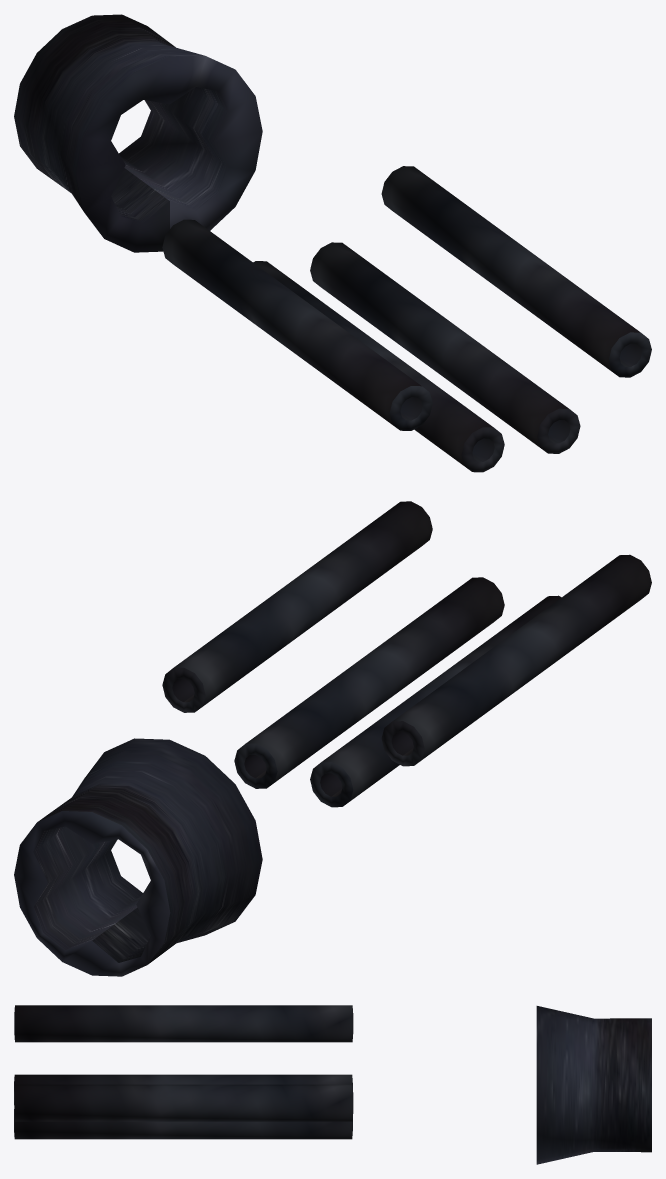
The model's file is ilacli_buat_bant.fbx.
The picture shows the model from 3 angles, top to bottom: view 1: azimuth 30°, elevation 25°; view 2: azimuth 150°, elevation 25°; view 3: azimuth 270°, elevation 25°; orthographic projection. The views are drawn at different scales.
Visible parts, largest first — view 1: cable2_buyuk_bant, ilacli_buat_bant.003, ilacli_buat_bant.004, ilacli_buat_bant.001, ilacli_buat_bant.002; view 2: cable2_buyuk_bant, ilacli_buat_bant.004, ilacli_buat_bant.003, ilacli_buat_bant.001, ilacli_buat_bant.002; view 3: cable2_buyuk_bant, ilacli_buat_bant.001, ilacli_buat_bant.004, ilacli_buat_bant.003, ilacli_buat_bant.002.
Boxes of the visible parts, bbox=[...] form: cable2_buyuk_bant: bbox=[14, 14, 262, 252]; ilacli_buat_bant.003: bbox=[310, 242, 580, 453]; ilacli_buat_bant.004: bbox=[381, 166, 651, 377]; ilacli_buat_bant.001: bbox=[162, 219, 432, 430]; ilacli_buat_bant.002: bbox=[253, 261, 504, 472]; cable2_buyuk_bant: bbox=[14, 738, 262, 976]; ilacli_buat_bant.004: bbox=[162, 501, 432, 712]; ilacli_buat_bant.003: bbox=[234, 577, 504, 788]; ilacli_buat_bant.001: bbox=[381, 554, 651, 766]; ilacli_buat_bant.002: bbox=[310, 595, 561, 807]; cable2_buyuk_bant: bbox=[536, 1006, 651, 1164]; ilacli_buat_bant.001: bbox=[14, 1005, 353, 1042]; ilacli_buat_bant.004: bbox=[14, 1084, 353, 1121]; ilacli_buat_bant.003: bbox=[14, 1109, 352, 1139]; ilacli_buat_bant.002: bbox=[14, 1074, 352, 1104].
Bounding box in the file's own units: 1.83 × 5.18 × 1.29.
2 materials, 2 textured.
